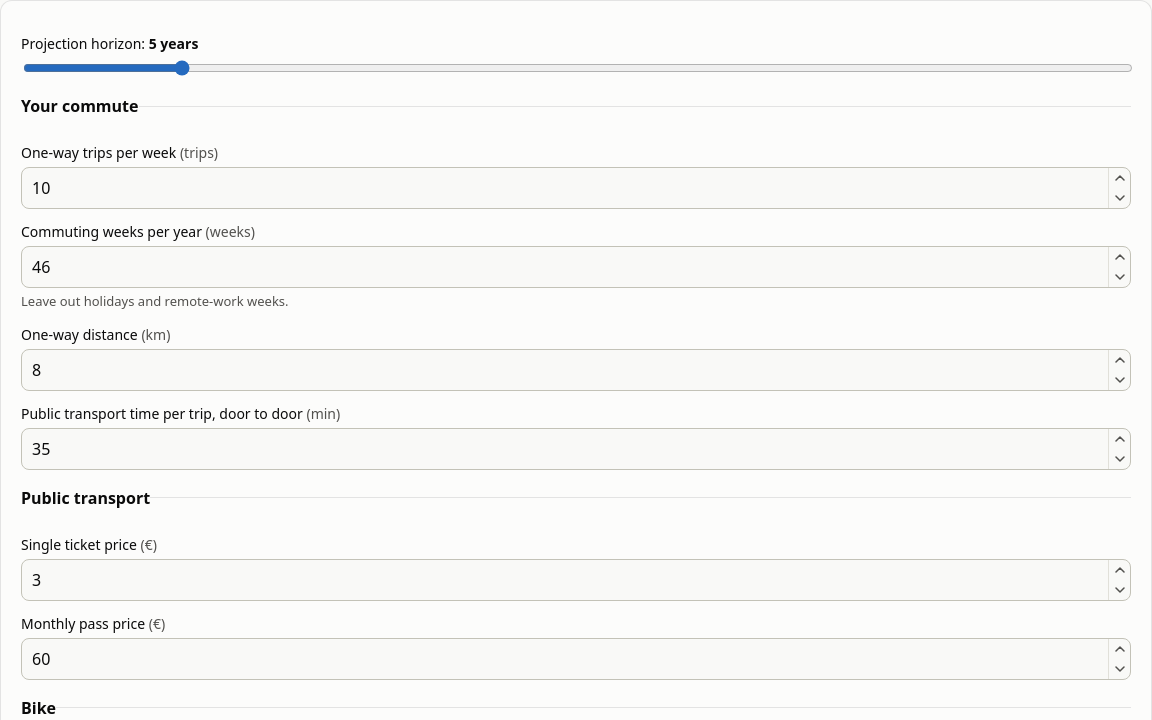
Test: InputPanel steppers › steps from the last valid value when the text is invalid
The image size is (1152, 720).
Step 1. Replace the text in the field labelled "One-way distance (km)" with "abc" → (576, 370), box [21,348,1131,390]
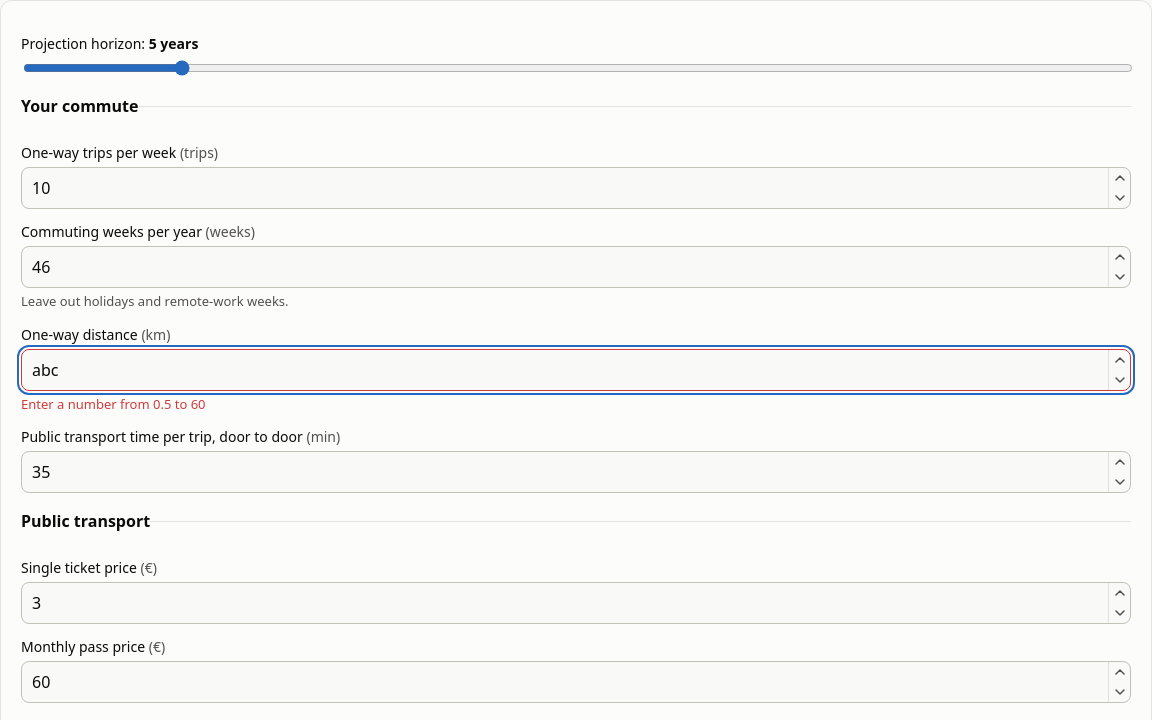
Step 2. Click the 5th button named "Increase One-way distance" → click(1120, 360), box [1109,350,1130,370]
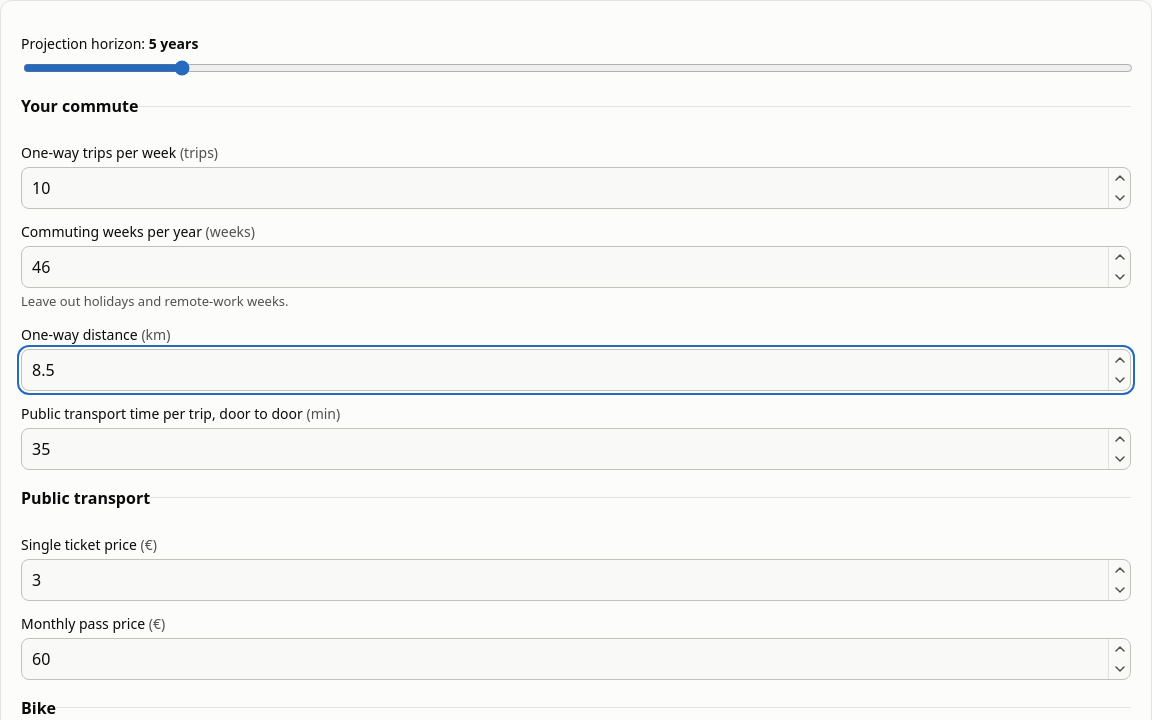
Result: the message "Enter a number from 0.5 to 60" is gone
